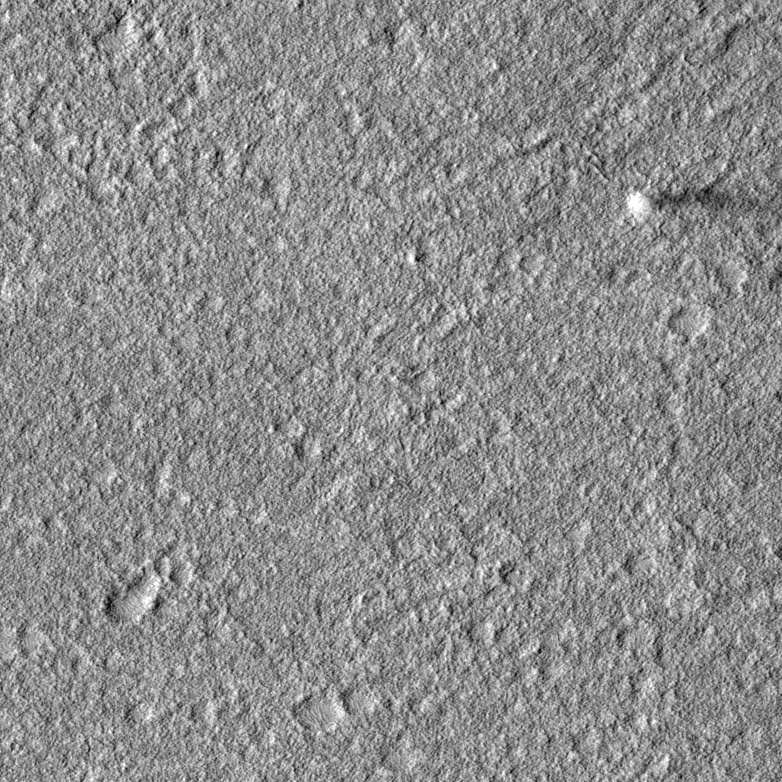dust_devil: (622, 181, 782, 227)
